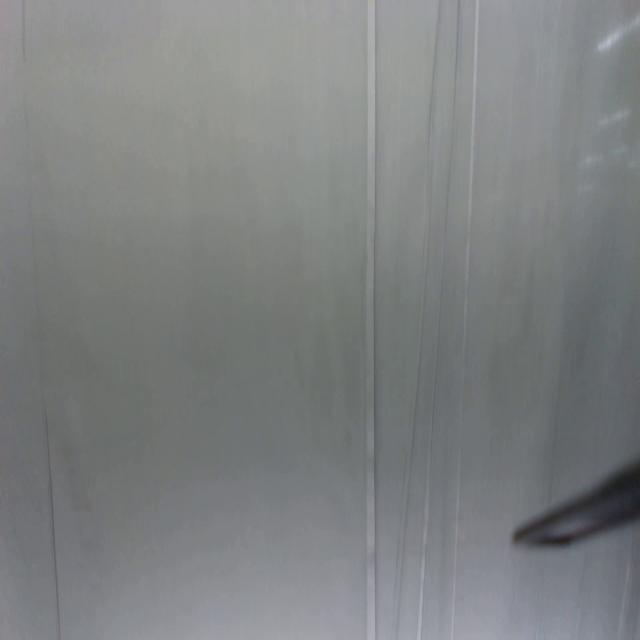crease: (390, 0, 443, 636), (416, 0, 463, 640), (450, 0, 483, 638), (365, 0, 380, 637), (41, 402, 65, 640), (617, 552, 633, 638), (20, 0, 28, 70)
